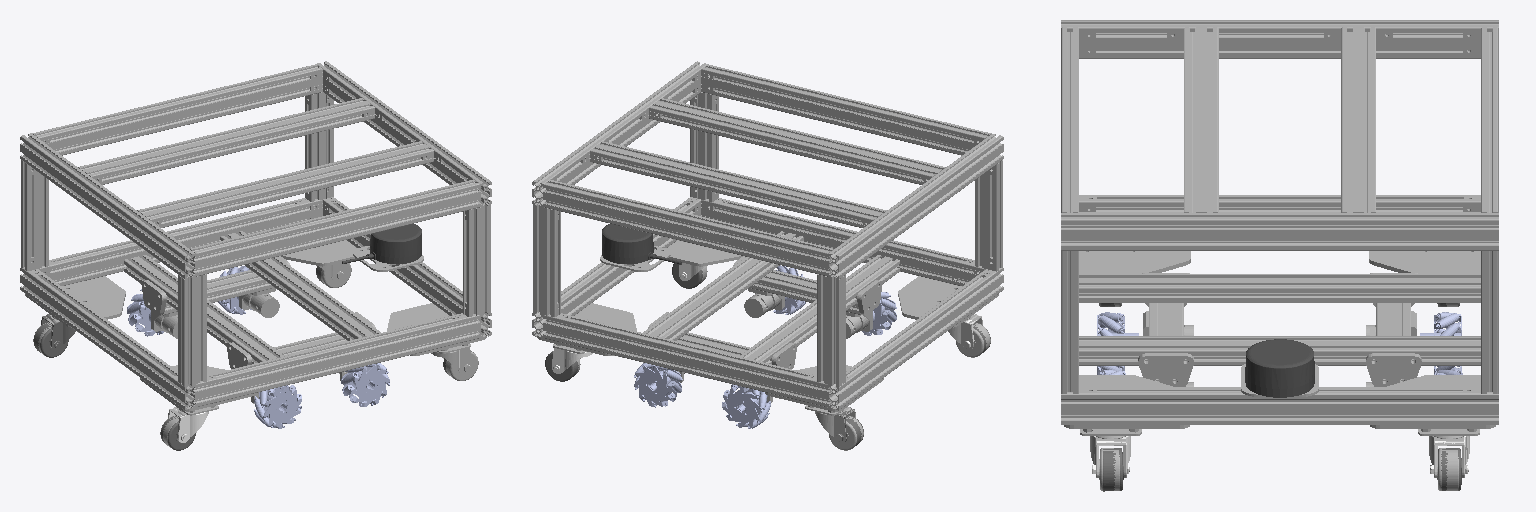
robot.urdf — chassis:
<?xml version="1.0" encoding="utf-8"?>
<!-- This URDF was automatically created by SolidWorks to URDF Exporter! Originally created by Stephen Brawner (brawner@gmail.com) 
     Commit Version: 1.6.0-4-g7f85cfe  Build Version: 1.6.7995.38578
     For more information, please see http://wiki.ros.org/sw_urdf_exporter -->
<robot
  name="chassis">
  <link
    name="base_link">
    <inertial>
      <origin
        xyz="-0.0675270768601142 1.58783596061474E-05 0.0798674130827827"
        rpy="0 0 0" />
      <mass
        value="2.96722438134946" />
      <inertia
        ixx="0.018714594246172"
        ixy="-1.04874464350767E-06"
        ixz="-3.69448032218879E-08"
        iyy="0.0204034609796942"
        iyz="3.19038736280592E-11"
        izz="0.0374420224980581" />
    </inertial>
    <visual>
      <origin
        xyz="0 0 0"
        rpy="0 0 0" />
      <geometry>
        <mesh
          filename="package://chassis/meshes/base_link.STL" />
      </geometry>
      <material
        name="">
        <color
          rgba="0.752941176470588 0.752941176470588 0.752941176470588 1" />
      </material>
    </visual>
    <collision>
      <origin
        xyz="0 0 0"
        rpy="0 0 0" />
      <geometry>
        <mesh
          filename="package://chassis/meshes/base_link.STL" />
      </geometry>
    </collision>
  </link>
  <link
    name="scan_Link">
    <inertial>
      <origin
        xyz="-0.00250631823886316 3.1136638433682E-06 0.00608264597257954"
        rpy="0 0 0" />
      <mass
        value="0.037430734832312" />
      <inertia
        ixx="2.80476544629457E-05"
        ixy="-5.42797379184484E-09"
        ixz="-1.07121854806025E-06"
        iyy="3.36164827337721E-05"
        iyz="-1.30543544942952E-09"
        izz="4.50845445069641E-05" />
    </inertial>
    <visual>
      <origin
        xyz="0 0 0"
        rpy="0 0 0" />
      <geometry>
        <mesh
          filename="package://chassis/meshes/scan_Link.STL" />
      </geometry>
      <material
        name="">
        <color
          rgba="0.376470588235294 0.376470588235294 0.376470588235294 1" />
      </material>
    </visual>
    <collision>
      <origin
        xyz="0 0 0"
        rpy="0 0 0" />
      <geometry>
        <mesh
          filename="package://chassis/meshes/scan_Link.STL" />
      </geometry>
    </collision>
  </link>
  <joint
    name="scan_Joint"
    type="fixed">
    <origin
      xyz="0.176999519687399 0.000102976087830442 0.0500745386389263"
      rpy="0 0 0" />
    <parent
      link="base_link" />
    <child
      link="scan_Link" />
    <axis
      xyz="0 0 0" />
  </joint>
  <link
    name="FL_Link">
    <inertial>
      <origin
        xyz="-4.8532404021695E-06 -0.0177688188653586 3.72944025633232E-05"
        rpy="0 0 0" />
      <mass
        value="0.057099187693903" />
      <inertia
        ixx="2.10306170372987E-05"
        ixy="-1.11304021950106E-08"
        ixz="-8.1440403185043E-09"
        iyy="3.39619724351019E-05"
        iyz="8.9355546624424E-09"
        izz="2.10416881894403E-05" />
    </inertial>
    <visual>
      <origin
        xyz="0 0 0"
        rpy="0 0 0" />
      <geometry>
        <mesh
          filename="package://chassis/meshes/FL_Link.STL" />
      </geometry>
      <material
        name="">
        <color
          rgba="0.792156862745098 0.819607843137255 0.933333333333333 1" />
      </material>
    </visual>
    <collision>
      <origin
        xyz="0 0 0"
        rpy="0 0 0" />
      <geometry>
        <mesh
          filename="package://chassis/meshes/FL_Link.STL" />
      </geometry>
    </collision>
  </link>
  <joint
    name="FL_Joint"
    type="continuous">
    <origin
      xyz="0.0118643454815511 0.207006913787674 -0.0618699704261833"
      rpy="0 0 0" />
    <parent
      link="base_link" />
    <child
      link="FL_Link" />
    <axis
      xyz="0.000579809806714553 -0.99999983191028 0" />
  </joint>
  <link
    name="FR_Link">
    <inertial>
      <origin
        xyz="2.70131134820217E-05 0.017765652406799 -1.51714753059001E-05"
        rpy="0 0 0" />
      <mass
        value="0.0570982559608341" />
      <inertia
        ixx="2.10412452587063E-05"
        ixy="-1.6432899591046E-08"
        ixz="-8.14467783929371E-09"
        iyy="3.39612412912164E-05"
        iyz="3.63299828113721E-09"
        izz="2.10301739693171E-05" />
    </inertial>
    <visual>
      <origin
        xyz="0 0 0"
        rpy="0 0 0" />
      <geometry>
        <mesh
          filename="package://chassis/meshes/FR_Link.STL" />
      </geometry>
      <material
        name="">
        <color
          rgba="0.792156862745098 0.819607843137255 0.933333333333333 1" />
      </material>
    </visual>
    <collision>
      <origin
        xyz="0 0 0"
        rpy="0 0 0" />
      <geometry>
        <mesh
          filename="package://chassis/meshes/FR_Link.STL" />
      </geometry>
    </collision>
  </link>
  <joint
    name="FR_Joint"
    type="continuous">
    <origin
      xyz="0.0121038069317233 -0.205993016791277 -0.0618699699460414"
      rpy="0 0 0" />
    <parent
      link="base_link" />
    <child
      link="FR_Link" />
    <axis
      xyz="-0.000579809806714554 0.99999983191028 0" />
  </joint>
  <link
    name="BL_Link">
    <inertial>
      <origin
        xyz="4.76145018993152E-05 -0.0177656091305489 1.51715021141641E-05"
        rpy="0 0 0" />
      <mass
        value="0.0570982559458567" />
      <inertia
        ixx="2.10412245126417E-05"
        ixy="1.45057897625793E-09"
        ixz="8.14046530341467E-09"
        iyy="3.39612620190898E-05"
        iyz="3.6424171419057E-09"
        izz="2.10301739658219E-05" />
    </inertial>
    <visual>
      <origin
        xyz="0 0 0"
        rpy="0 0 0" />
      <geometry>
        <mesh
          filename="package://chassis/meshes/BL_Link.STL" />
      </geometry>
      <material
        name="">
        <color
          rgba="0.792156862745098 0.819607843137255 0.933333333333333 1" />
      </material>
    </visual>
    <collision>
      <origin
        xyz="0 0 0"
        rpy="0 0 0" />
      <geometry>
        <mesh
          filename="package://chassis/meshes/BL_Link.STL" />
      </geometry>
    </collision>
  </link>
  <joint
    name="BL_Joint"
    type="continuous">
    <origin
      xyz="-0.143135048654426 0.205917043435722 -0.0618702812116643"
      rpy="0 0 0" />
    <parent
      link="base_link" />
    <child
      link="BL_Link" />
    <axis
      xyz="0.000579809806715559 -0.99999983191028 0" />
  </joint>
  <link
    name="BR_Link">
    <inertial>
      <origin
        xyz="4.85324040201685E-06 0.0177688188654452 3.7294361248115E-05"
        rpy="0 0 0" />
      <mass
        value="0.0570991876939034" />
      <inertia
        ixx="2.10306170372988E-05"
        ixy="-1.11304021758348E-08"
        ixz="8.14404034436538E-09"
        iyy="3.39619724350603E-05"
        iyz="-8.93558470427248E-09"
        izz="2.10416881894818E-05" />
    </inertial>
    <visual>
      <origin
        xyz="0 0 0"
        rpy="0 0 0" />
      <geometry>
        <mesh
          filename="package://chassis/meshes/BR_Link.STL" />
      </geometry>
      <material
        name="">
        <color
          rgba="0.792156862745098 0.819607843137255 0.933333333333333 1" />
      </material>
    </visual>
    <collision>
      <origin
        xyz="0 0 0"
        rpy="0 0 0" />
      <geometry>
        <mesh
          filename="package://chassis/meshes/BR_Link.STL" />
      </geometry>
    </collision>
  </link>
  <joint
    name="BR_Joint"
    type="continuous">
    <origin
      xyz="-0.142895587204251 -0.207082887143228 -0.0618702807315214"
      rpy="0 0 0" />
    <parent
      link="base_link" />
    <child
      link="BR_Link" />
    <axis
      xyz="-0.000579809806717571 0.99999983191028 0" />
  </joint>
  <link
    name="caster_FL_Link">
    <inertial>
      <origin
        xyz="0.0117884879284703 0.000222614197135318 -0.0122637089489482"
        rpy="0 0 0" />
      <mass
        value="0.0145709016852163" />
      <inertia
        ixx="5.41948990782556E-06"
        ixy="1.14634945215277E-08"
        ixz="1.28769588367008E-06"
        iyy="5.04807353874172E-06"
        iyz="3.96860195506273E-08"
        izz="6.51291797995408E-06" />
    </inertial>
    <visual>
      <origin
        xyz="0 0 0"
        rpy="0 0 0" />
      <geometry>
        <mesh
          filename="package://chassis/meshes/caster_FL_Link.STL" />
      </geometry>
      <material
        name="">
        <color
          rgba="1 1 1 1" />
      </material>
    </visual>
    <collision>
      <origin
        xyz="0 0 0"
        rpy="0 0 0" />
      <geometry>
        <mesh
          filename="package://chassis/meshes/caster_FL_Link.STL" />
      </geometry>
    </collision>
  </link>
  <joint
    name="caster_FL_Joint"
    type="continuous">
    <origin
      xyz="0.15188785333492 0.193588098565258 -0.0359496954534681"
      rpy="0 0 0" />
    <parent
      link="base_link" />
    <child
      link="caster_FL_Link" />
    <axis
      xyz="0 0 -0.99999999999799" />
  </joint>
  <link
    name="caster-FL-wheel-Link">
    <inertial>
      <origin
        xyz="0.000292643953135885 -0.00949549153633783 5.86773171717958E-10"
        rpy="0 0 0" />
      <mass
        value="0.0496058590410657" />
      <inertia
        ixx="1.02033252308362E-05"
        ixy="-1.49916123996596E-07"
        ixz="9.26405810966813E-15"
        iyy="1.50630708965755E-05"
        iyz="-3.00593187238998E-13"
        izz="1.01987049279275E-05" />
    </inertial>
    <visual>
      <origin
        xyz="0 0 0"
        rpy="0 0 0" />
      <geometry>
        <mesh
          filename="package://chassis/meshes/caster-FL-wheel-Link.STL" />
      </geometry>
      <material
        name="">
        <color
          rgba="0.498039215686275 0.498039215686275 0.498039215686275 1" />
      </material>
    </visual>
    <collision>
      <origin
        xyz="0 0 0"
        rpy="0 0 0" />
      <geometry>
        <mesh
          filename="package://chassis/meshes/caster-FL-wheel-Link.STL" />
      </geometry>
    </collision>
  </link>
  <joint
    name="caster-FL-wheel-Joint"
    type="continuous">
    <origin
      xyz="0.0266946086859995 0.0103272164557828 -0.0329999464753622"
      rpy="0 0 0" />
    <parent
      link="caster_FL_Link" />
    <child
      link="caster-FL-wheel-Link" />
    <axis
      xyz="0.0308046266460062 -0.999525424877825 0" />
  </joint>
  <link
    name="caster_LR_Link">
    <inertial>
      <origin
        xyz="0.0117884879284716 0.000222614197133666 -0.0122637089489481"
        rpy="0 0 0" />
      <mass
        value="0.0145709016852163" />
      <inertia
        ixx="5.41948990782553E-06"
        ixy="1.14634945215314E-08"
        ixz="1.28769588367007E-06"
        iyy="5.04807353874169E-06"
        iyz="3.96860195505983E-08"
        izz="6.51291797995403E-06" />
    </inertial>
    <visual>
      <origin
        xyz="0 0 0"
        rpy="0 0 0" />
      <geometry>
        <mesh
          filename="package://chassis/meshes/caster_LR_Link.STL" />
      </geometry>
      <material
        name="">
        <color
          rgba="1 1 1 1" />
      </material>
    </visual>
    <collision>
      <origin
        xyz="0 0 0"
        rpy="0 0 0" />
      <geometry>
        <mesh
          filename="package://chassis/meshes/caster_LR_Link.STL" />
      </geometry>
    </collision>
  </link>
  <joint
    name="caster_FR_Joint"
    type="continuous">
    <origin
      xyz="0.152112239730119 -0.193411836384017 -0.0359496950035531"
      rpy="0 0 0" />
    <parent
      link="base_link" />
    <child
      link="caster_LR_Link" />
    <axis
      xyz="0 0 -0.99999999999799" />
  </joint>
  <link
    name="caster-FR-wheel-Link">
    <inertial>
      <origin
        xyz="-0.000292643953136995 0.00949549153633933 -5.86773303556942E-10"
        rpy="0 0 0" />
      <mass
        value="0.0496058590410657" />
      <inertia
        ixx="1.02033252308362E-05"
        ixy="-1.49916123996583E-07"
        ixz="9.26405765617566E-15"
        iyy="1.50630708965755E-05"
        iyz="-3.00593190220109E-13"
        izz="1.01987049279275E-05" />
    </inertial>
    <visual>
      <origin
        xyz="0 0 0"
        rpy="0 0 0" />
      <geometry>
        <mesh
          filename="package://chassis/meshes/caster-FR-wheel-Link.STL" />
      </geometry>
      <material
        name="">
        <color
          rgba="0.498039215686275 0.498039215686275 0.498039215686275 1" />
      </material>
    </visual>
    <collision>
      <origin
        xyz="0 0 0"
        rpy="0 0 0" />
      <geometry>
        <mesh
          filename="package://chassis/meshes/caster-FR-wheel-Link.STL" />
      </geometry>
    </collision>
  </link>
  <joint
    name="caster-FR-wheel-Joint"
    type="continuous">
    <origin
      xyz="0.0272798965922736 -0.00866376661689594 -0.0329999453018156"
      rpy="0 0 0" />
    <parent
      link="caster_LR_Link" />
    <child
      link="caster-FR-wheel-Link" />
    <axis
      xyz="0.0308046266460034 -0.999525424877825 0" />
  </joint>
  <link
    name="caster_BL_Link">
    <inertial>
      <origin
        xyz="-0.0117884387491139 -0.000222614197137871 -0.0122637562224485"
        rpy="0 0 0" />
      <mass
        value="0.0145709016851673" />
      <inertia
        ixx="5.41950023553841E-06"
        ixy="1.14636536608252E-08"
        ixz="-1.28770026843925E-06"
        iyy="5.04807353871192E-06"
        iyz="-3.96859735908227E-08"
        izz="6.51290765219745E-06" />
    </inertial>
    <visual>
      <origin
        xyz="0 0 0"
        rpy="0 0 0" />
      <geometry>
        <mesh
          filename="package://chassis/meshes/caster_BL_Link.STL" />
      </geometry>
      <material
        name="">
        <color
          rgba="0.498039215686275 0.498039215686275 0.498039215686275 1" />
      </material>
    </visual>
    <collision>
      <origin
        xyz="0 0 0"
        rpy="0 0 0" />
      <geometry>
        <mesh
          filename="package://chassis/meshes/caster_BL_Link.STL" />
      </geometry>
    </collision>
  </link>
  <joint
    name="caster_BL_Joint"
    type="continuous">
    <origin
      xyz="-0.292112072032346 0.193330663011075 -0.0359505857068151"
      rpy="0 0 0" />
    <parent
      link="base_link" />
    <child
      link="caster_BL_Link" />
    <axis
      xyz="0 0 -0.99999999999799" />
  </joint>
  <link
    name="caster-BL-wheel-Link">
    <inertial>
      <origin
        xyz="0.00029264395313703 -0.00949549153633933 5.86773268862473E-10"
        rpy="0 0 0" />
      <mass
        value="0.0496058590410656" />
      <inertia
        ixx="1.02033252308362E-05"
        ixy="-1.49916123996578E-07"
        ixz="9.26405785422392E-15"
        iyy="1.50630708965755E-05"
        iyz="-3.00593170227219E-13"
        izz="1.01987049279275E-05" />
    </inertial>
    <visual>
      <origin
        xyz="0 0 0"
        rpy="0 0 0" />
      <geometry>
        <mesh
          filename="package://chassis/meshes/caster-BL-wheel-Link.STL" />
      </geometry>
      <material
        name="">
        <color
          rgba="0.498039215686275 0.498039215686275 0.498039215686275 1" />
      </material>
    </visual>
    <collision>
      <origin
        xyz="0 0 0"
        rpy="0 0 0" />
      <geometry>
        <mesh
          filename="package://chassis/meshes/caster-BL-wheel-Link.STL" />
      </geometry>
    </collision>
  </link>
  <joint
    name="caster-BL-wheel-Joint"
    type="continuous">
    <origin
      xyz="-0.0272797642572944 0.00866376661689533 -0.0330000546980519"
      rpy="0 0 0" />
    <parent
      link="caster_BL_Link" />
    <child
      link="caster-BL-wheel-Link" />
    <axis
      xyz="-0.030804626646003 0.999525424877825 0" />
  </joint>
  <link
    name="caster_BR_Link">
    <inertial>
      <origin
        xyz="-0.011788438749114 -0.000222614197137969 -0.0122637562224485"
        rpy="0 0 0" />
      <mass
        value="0.0145709016851673" />
      <inertia
        ixx="5.41950023553843E-06"
        ixy="1.14636536608231E-08"
        ixz="-1.28770026843926E-06"
        iyy="5.04807353871191E-06"
        iyz="-3.96859735908276E-08"
        izz="6.51290765219743E-06" />
    </inertial>
    <visual>
      <origin
        xyz="0 0 0"
        rpy="0 0 0" />
      <geometry>
        <mesh
          filename="package://chassis/meshes/caster_BR_Link.STL" />
      </geometry>
      <material
        name="">
        <color
          rgba="1 1 1 1" />
      </material>
    </visual>
    <collision>
      <origin
        xyz="0 0 0"
        rpy="0 0 0" />
      <geometry>
        <mesh
          filename="package://chassis/meshes/caster_BR_Link.STL" />
      </geometry>
    </collision>
  </link>
  <joint
    name="caster_BR_Joint"
    type="continuous">
    <origin
      xyz="-0.291887685637147 -0.1936692719382 -0.0359505852569"
      rpy="0 0 0" />
    <parent
      link="base_link" />
    <child
      link="caster_BR_Link" />
    <axis
      xyz="0 0 -0.99999999999799" />
  </joint>
  <link
    name="caster-BR-wheel-Link">
    <inertial>
      <origin
        xyz="-0.000292643953137051 0.00949549153633933 -5.86773282740261E-10"
        rpy="0 0 0" />
      <mass
        value="0.0496058590410657" />
      <inertia
        ixx="1.02033252308362E-05"
        ixy="-1.49916123996595E-07"
        ixz="9.26405682100073E-15"
        iyy="1.50630708965755E-05"
        iyz="-3.00593174636105E-13"
        izz="1.01987049279275E-05" />
    </inertial>
    <visual>
      <origin
        xyz="0 0 0"
        rpy="0 0 0" />
      <geometry>
        <mesh
          filename="package://chassis/meshes/caster-BR-wheel-Link.STL" />
      </geometry>
      <material
        name="">
        <color
          rgba="0.498039215686275 0.498039215686275 0.498039215686275 1" />
      </material>
    </visual>
    <collision>
      <origin
        xyz="0 0 0"
        rpy="0 0 0" />
      <geometry>
        <mesh
          filename="package://chassis/meshes/caster-BR-wheel-Link.STL" />
      </geometry>
    </collision>
  </link>
  <joint
    name="caster-BR-wheel-Joint"
    type="continuous">
    <origin
      xyz="-0.0266944763510203 -0.0103272164557834 -0.0330000535245053"
      rpy="0 0 0" />
    <parent
      link="caster_BR_Link" />
    <child
      link="caster-BR-wheel-Link" />
    <axis
      xyz="-0.0308046266460051 0.999525424877825 0" />
  </joint>
</robot>

--- Facts derived from the render (not from the file) ---
The picture shows the robot from 3 angles, left to right: view 1: azimuth 30°, elevation 25°; view 2: azimuth 150°, elevation 25°; view 3: azimuth 270°, elevation 25°; orthographic projection.
Robot: chassis — 14 links, 13 joints (12 continuous, 1 fixed); root link base_link; default pose: all joints at 0.
Visible links, largest first — view 1: base_link, scan_Link, BR_Link, FR_Link, BL_Link, caster_BR_Link; view 2: base_link, scan_Link, FL_Link, BL_Link, BR_Link; view 3: base_link, scan_Link, BR_Link, BL_Link, caster-FR-wheel-Link.
Link boxes in pixels (x1=…): base_link: x1=20, y1=61, x2=491, y2=447; scan_Link: x1=342, y1=224, x2=421, y2=263; BR_Link: x1=254, y1=385, x2=301, y2=428; FR_Link: x1=341, y1=363, x2=389, y2=406; BL_Link: x1=127, y1=289, x2=163, y2=336; caster_BR_Link: x1=168, y1=408, x2=208, y2=442; base_link: x1=532, y1=61, x2=1003, y2=450; scan_Link: x1=602, y1=224, x2=681, y2=264; FL_Link: x1=634, y1=363, x2=682, y2=407; BL_Link: x1=722, y1=384, x2=770, y2=428; BR_Link: x1=862, y1=292, x2=896, y2=335; base_link: x1=1061, y1=20, x2=1498, y2=490; scan_Link: x1=1245, y1=339, x2=1314, y2=397; BR_Link: x1=1097, y1=312, x2=1138, y2=374; BL_Link: x1=1420, y1=312, x2=1461, y2=374; caster-FR-wheel-Link: x1=1103, y1=448, x2=1123, y2=491.
Bounding box of the posed robot: 0.5612 × 0.5 × 0.3552 m (x, y, z).
14 mesh visuals loaded from 14 distinct referenced files (14 binary STL).
